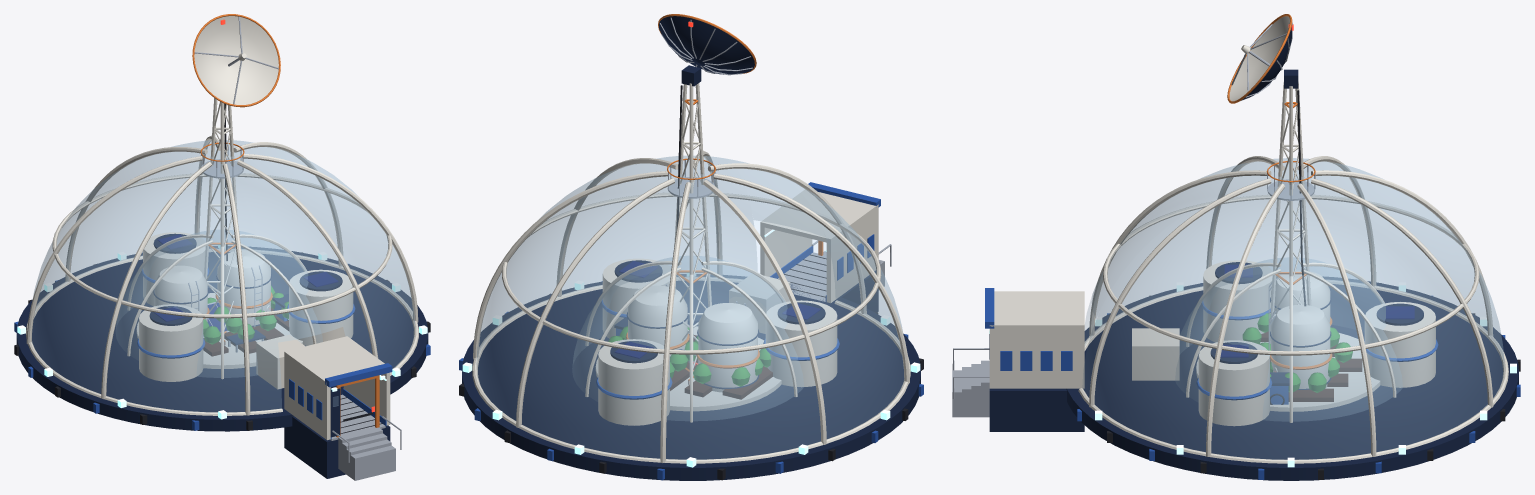
The model's file is world.glb.
The picture shows the model from 3 angles, left to right: view 1: azimuth 30°, elevation 25°; view 2: azimuth 150°, elevation 25°; view 3: azimuth 270°, elevation 25°; orthographic projection. The views are drawn at different scales.
Parts seen in each view (by area): view 1: Dome, Greenhouse, AntennaTower, FuelDepot; view 2: Dome, Greenhouse, AntennaTower, FuelDepot; view 3: Dome, Greenhouse, AntennaTower, FuelDepot.
Boxes of the visible parts, box(x1,y1,x2,y2) form: Dome: box(14, 135, 430, 480); Greenhouse: box(116, 230, 322, 389); AntennaTower: box(192, 14, 280, 338); FuelDepot: box(153, 250, 288, 326); Dome: box(459, 151, 923, 480); Greenhouse: box(572, 256, 803, 422); AntennaTower: box(658, 14, 756, 376); FuelDepot: box(614, 284, 759, 392); Dome: box(952, 156, 1520, 480); Greenhouse: box(1132, 257, 1402, 422); AntennaTower: box(1227, 14, 1315, 343); FuelDepot: box(1268, 270, 1332, 404).
Bounding box in the file's own units: 19.33 × 18.35 × 23.93.
